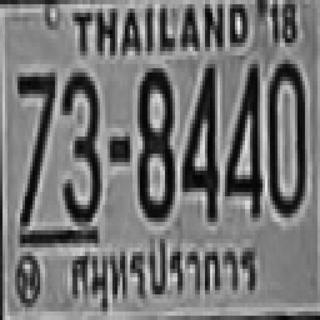N00: (266, 60, 304, 213)
N03: (60, 68, 100, 222)
N04: (180, 60, 218, 218), (222, 60, 260, 213)
N07: (15, 68, 55, 222)
N08: (138, 64, 172, 218)
P57: (64, 238, 262, 310)
